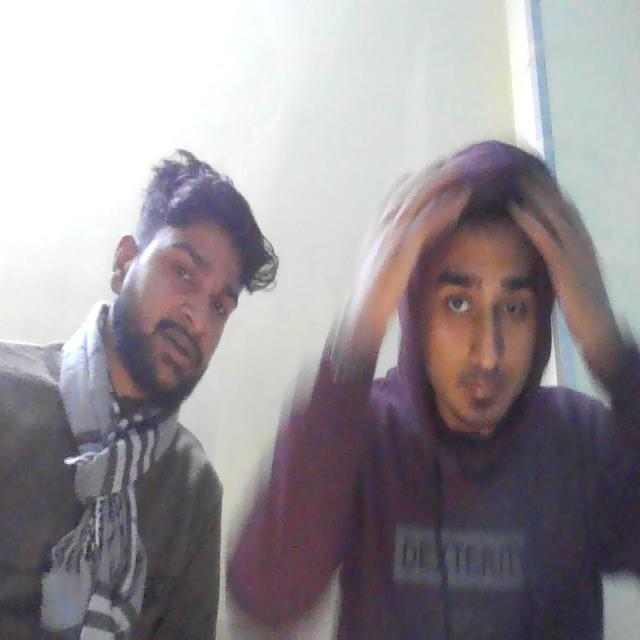real: (388, 147, 556, 464), (116, 155, 246, 401)
